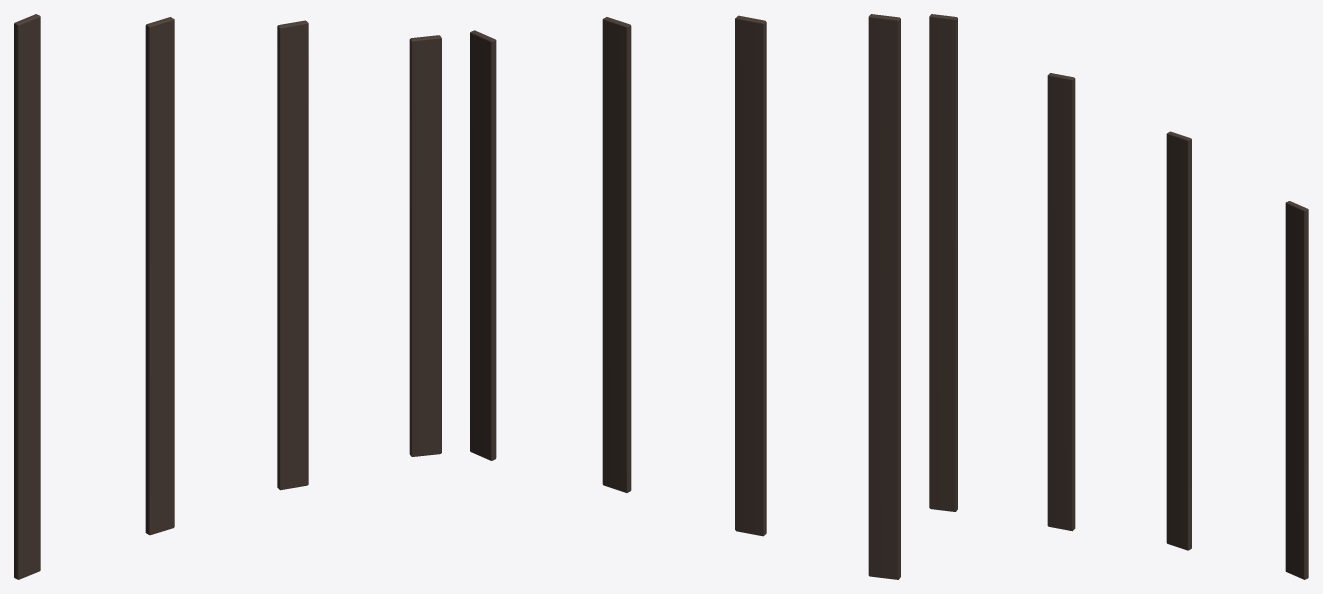
The model's file is prop_wall_scratch_decal_01.glb.
3 renders of one model, left to right at view 1: azimuth 30°, elevation 25°; view 2: azimuth 150°, elevation 25°; view 3: azimuth 330°, elevation 25°, orthographic. The views are drawn at different scales.
Visible parts, largest first — view 1: wall_scratch_02.002, wall_scratch_01.002, wall_scratch_03.002, wall_scratch_04.002; view 2: wall_scratch_01.002, wall_scratch_02.002, wall_scratch_03.002, wall_scratch_04.002; view 3: wall_scratch_01.002, wall_scratch_02.002, wall_scratch_03.002, wall_scratch_04.002.
Boxes of the visible parts, x1,y1,x2,y2 form: wall_scratch_02.002: (145,17,174,535); wall_scratch_01.002: (14,14,40,579); wall_scratch_03.002: (277,20,308,490); wall_scratch_04.002: (409,35,441,456); wall_scratch_01.002: (868,14,900,579); wall_scratch_02.002: (735,15,766,536); wall_scratch_03.002: (602,17,631,492); wall_scratch_04.002: (470,30,496,460); wall_scratch_01.002: (929,14,957,511); wall_scratch_02.002: (1047,73,1075,531); wall_scratch_03.002: (1166,131,1191,550); wall_scratch_04.002: (1285,201,1308,579).
Size of the model in its own units: 0.3852 by 0.48 by 0.0121.
